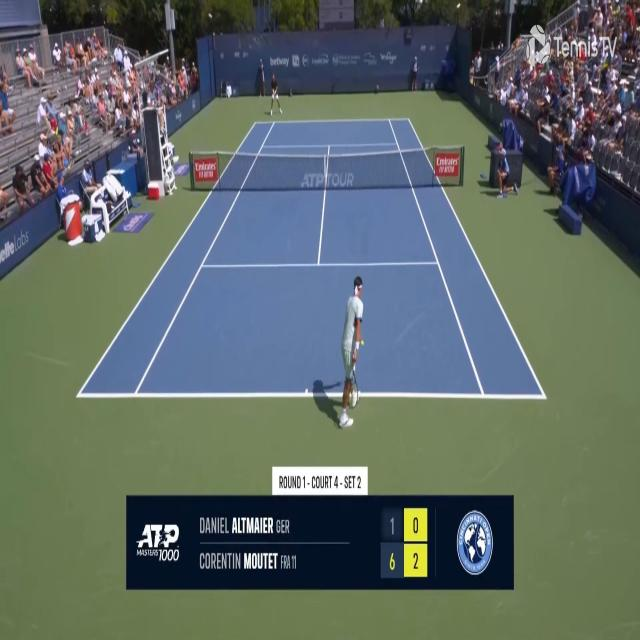tennis-player: (336, 273, 366, 432), (268, 73, 283, 116)
